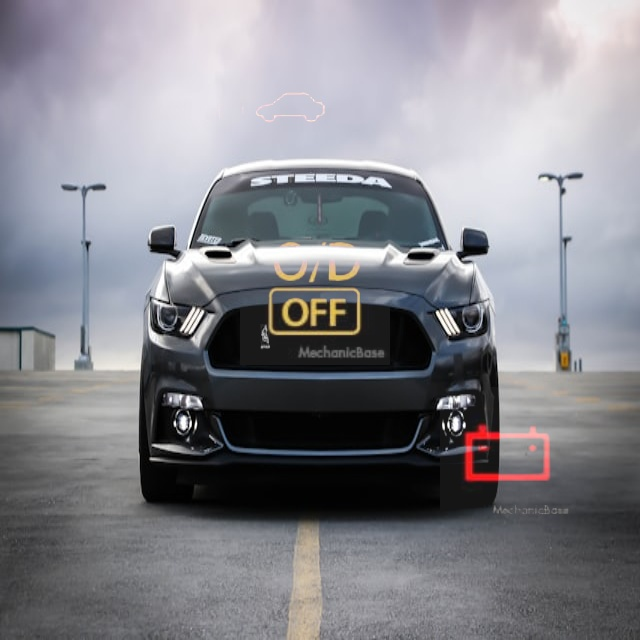symbol: (183, 29, 345, 191), (240, 215, 390, 365), (440, 387, 574, 521)
